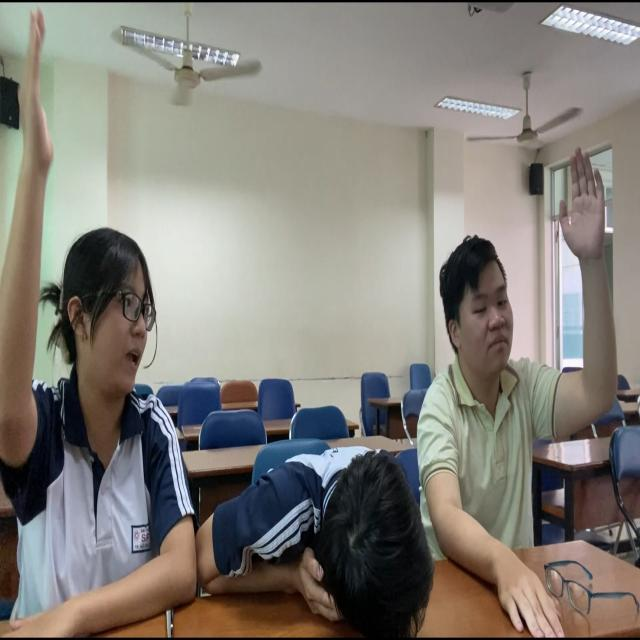raise_hand: (1, 92, 197, 623), (438, 145, 619, 640)
sleep: (198, 443, 435, 637)
